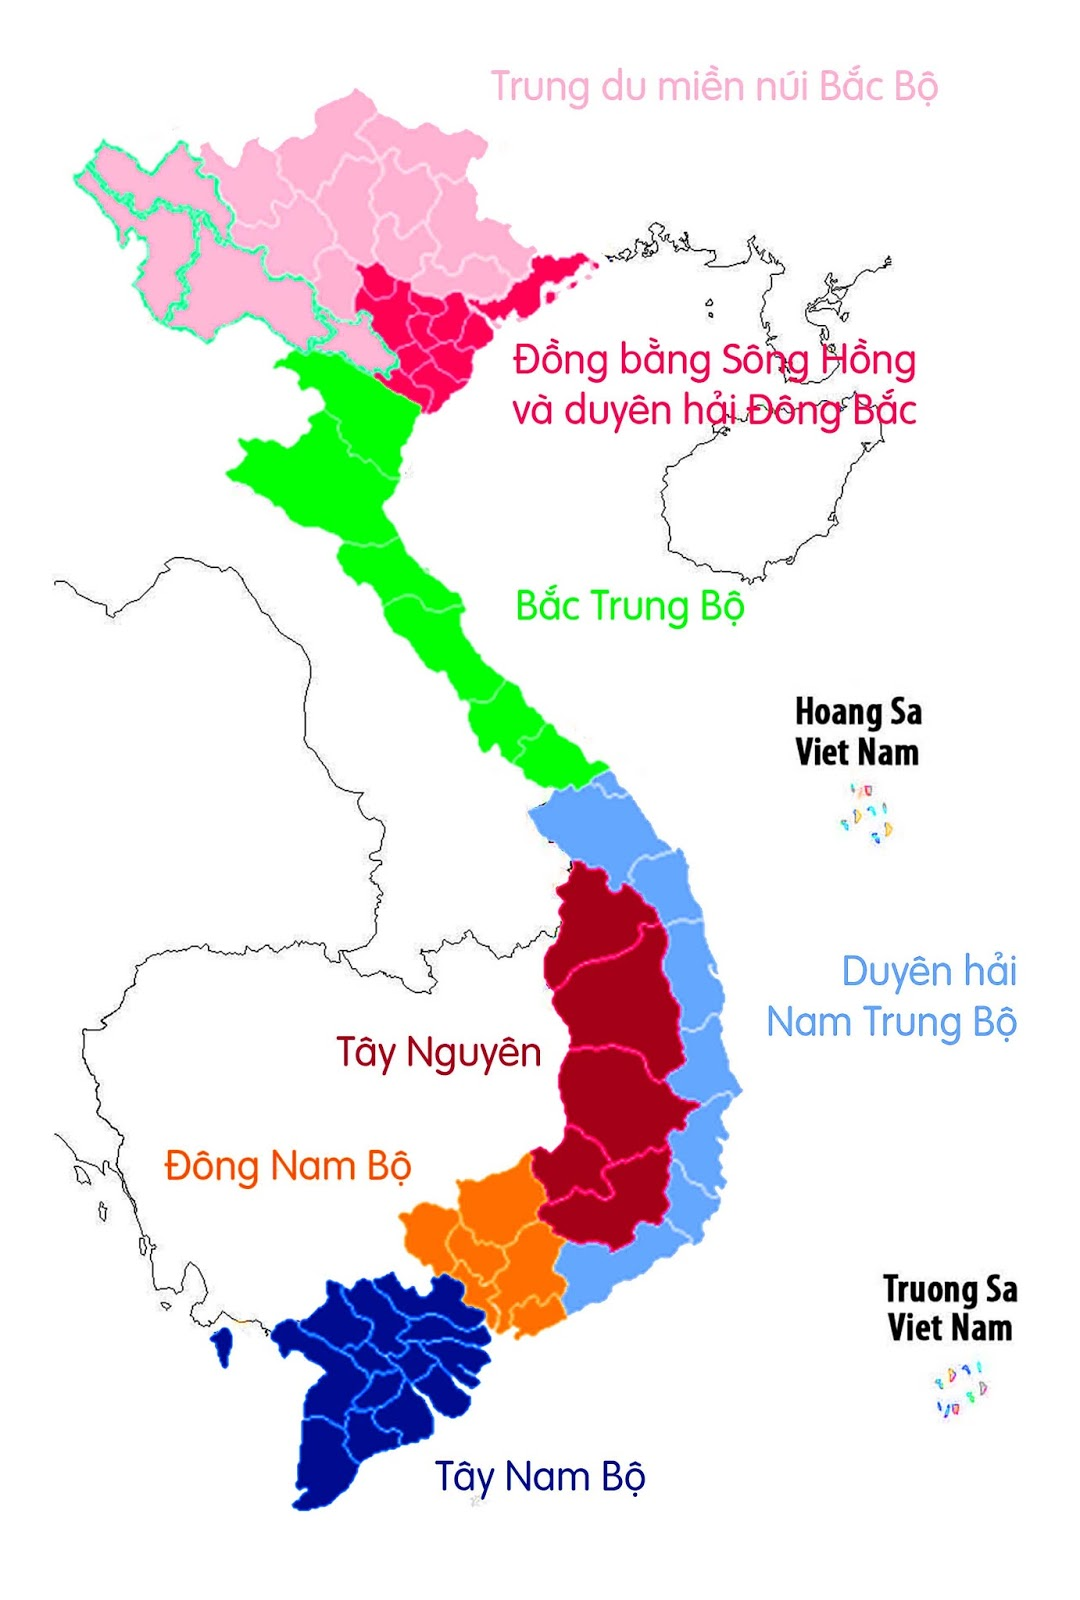Island: (782, 682, 938, 853), (890, 1272, 1021, 1439)
